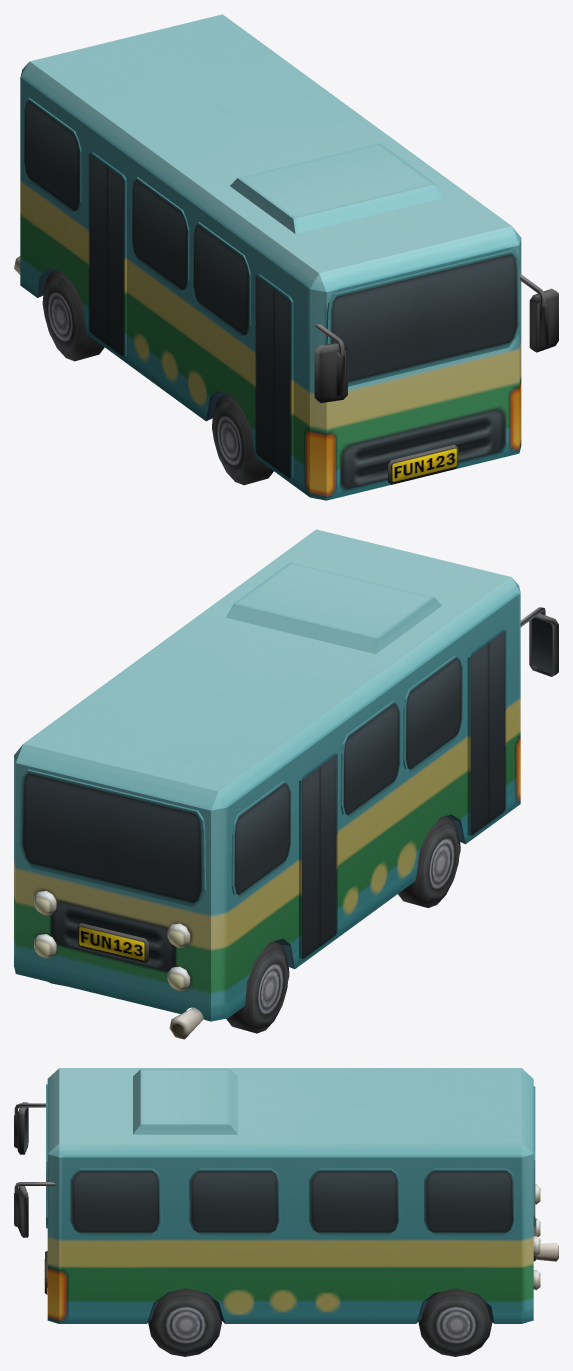
File: daba.FBX
3 views of the same model, one above another, from view 1: azimuth 30°, elevation 25°; view 2: azimuth 150°, elevation 25°; view 3: azimuth 270°, elevation 25° (orthographic). The views are drawn at different scales.
Visible parts, largest first — view 1: Object04; view 2: Object04; view 3: Object04.
Part boxes in pixels (x1,y1,x2,y2): Object04: (14, 14, 558, 500); Object04: (14, 529, 558, 1039); Object04: (14, 1068, 558, 1356).
Size of the model in its own units: 268 by 292 by 654.
1 material, 1 textured.
